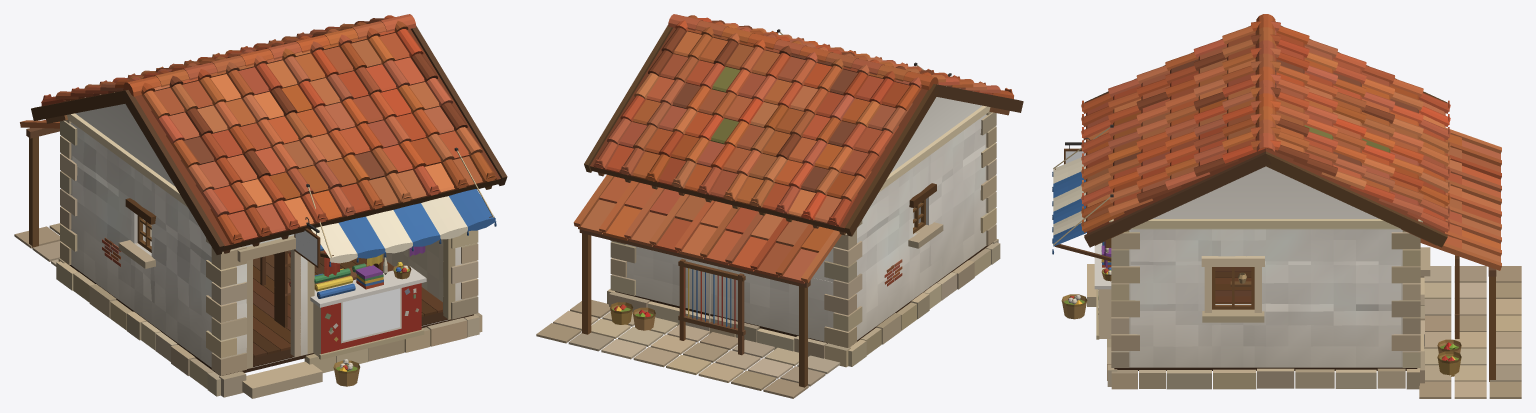
The model's file is artisan_0_1.glb.
3 renders of one model, left to right at view 1: azimuth 30°, elevation 25°; view 2: azimuth 150°, elevation 25°; view 3: azimuth 270°, elevation 25°, orthographic. The views are drawn at different scales.
Parts seen in each view (by area): view 1: House, Walls, Rooms; view 2: House, Walls; view 3: House, Walls, Rooms.
Boxes of the visible parts, x1,y1,x2,y2 form: House: (14,14,507,398); Walls: (70,104,469,367); Rooms: (150,224,443,357); House: (536,14,1023,398); Walls: (614,97,986,341); House: (1052,14,1521,398); Walls: (1114,166,1417,367); Rooms: (1215,267,1251,303).
Size of the model in its own units: 4.28 by 3.48 by 6.01.
7 materials, 7 textured.
